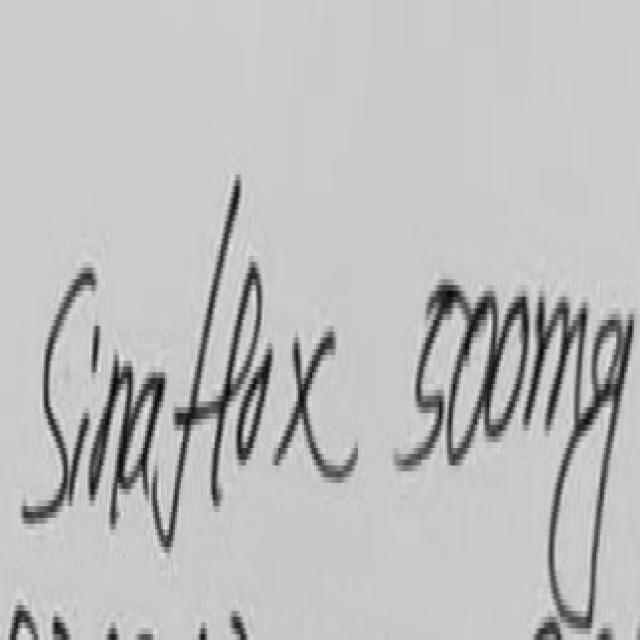0: (446, 298, 500, 474), (485, 281, 536, 445)
5: (390, 283, 474, 474)
S: (22, 268, 94, 521)
a: (118, 372, 166, 502)
f: (150, 168, 241, 570)
g: (541, 300, 637, 640)
i: (68, 413, 88, 503), (91, 326, 97, 369)
l: (209, 256, 263, 507)
m: (513, 288, 589, 440)
n: (90, 352, 135, 526)
o: (231, 360, 272, 470)
x: (271, 323, 360, 492)
